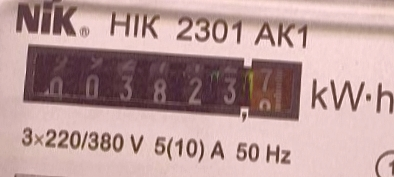0: (76, 70, 98, 98), (42, 72, 62, 96)
2: (181, 74, 202, 107)
3: (112, 71, 132, 101), (216, 75, 236, 105)
7: (254, 66, 271, 95)
8: (146, 75, 165, 104)
9: (46, 52, 65, 72)
screen: (12, 39, 303, 125)
